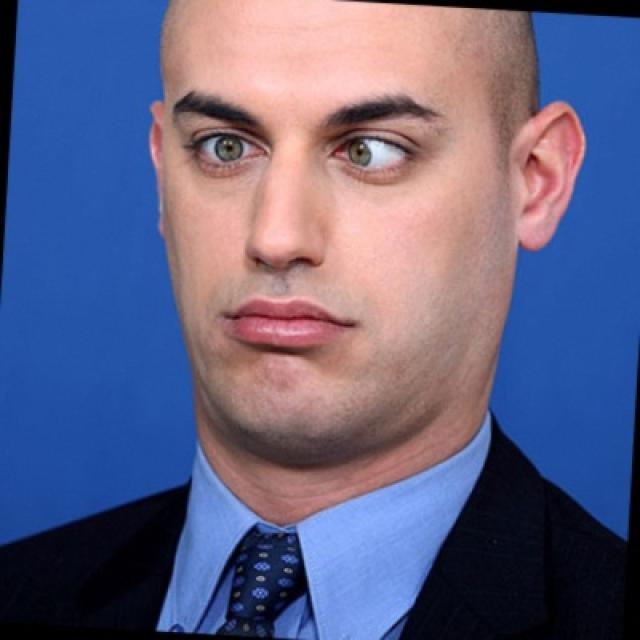Healthy-Eye: (179, 109, 275, 178)
Squint: (323, 102, 427, 188)
